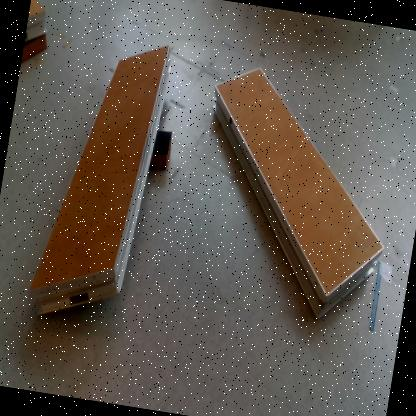Stairs: (212, 68, 385, 323), (26, 43, 173, 320), (24, 1, 48, 45)
